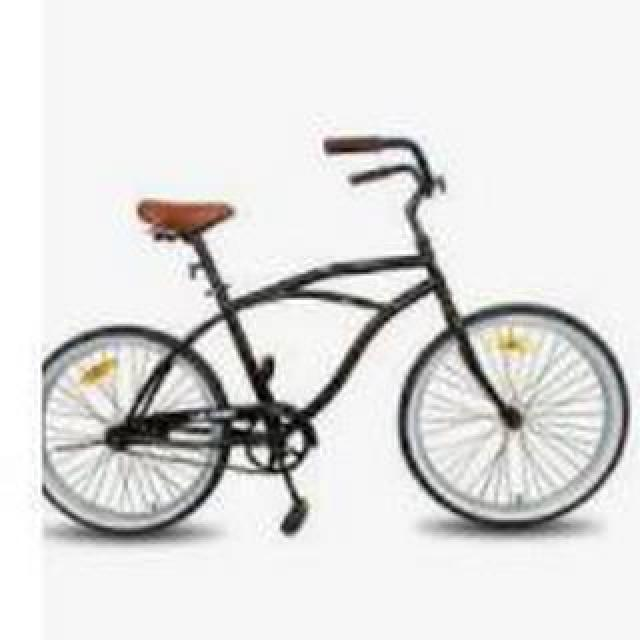Person: (39, 128, 633, 562)
